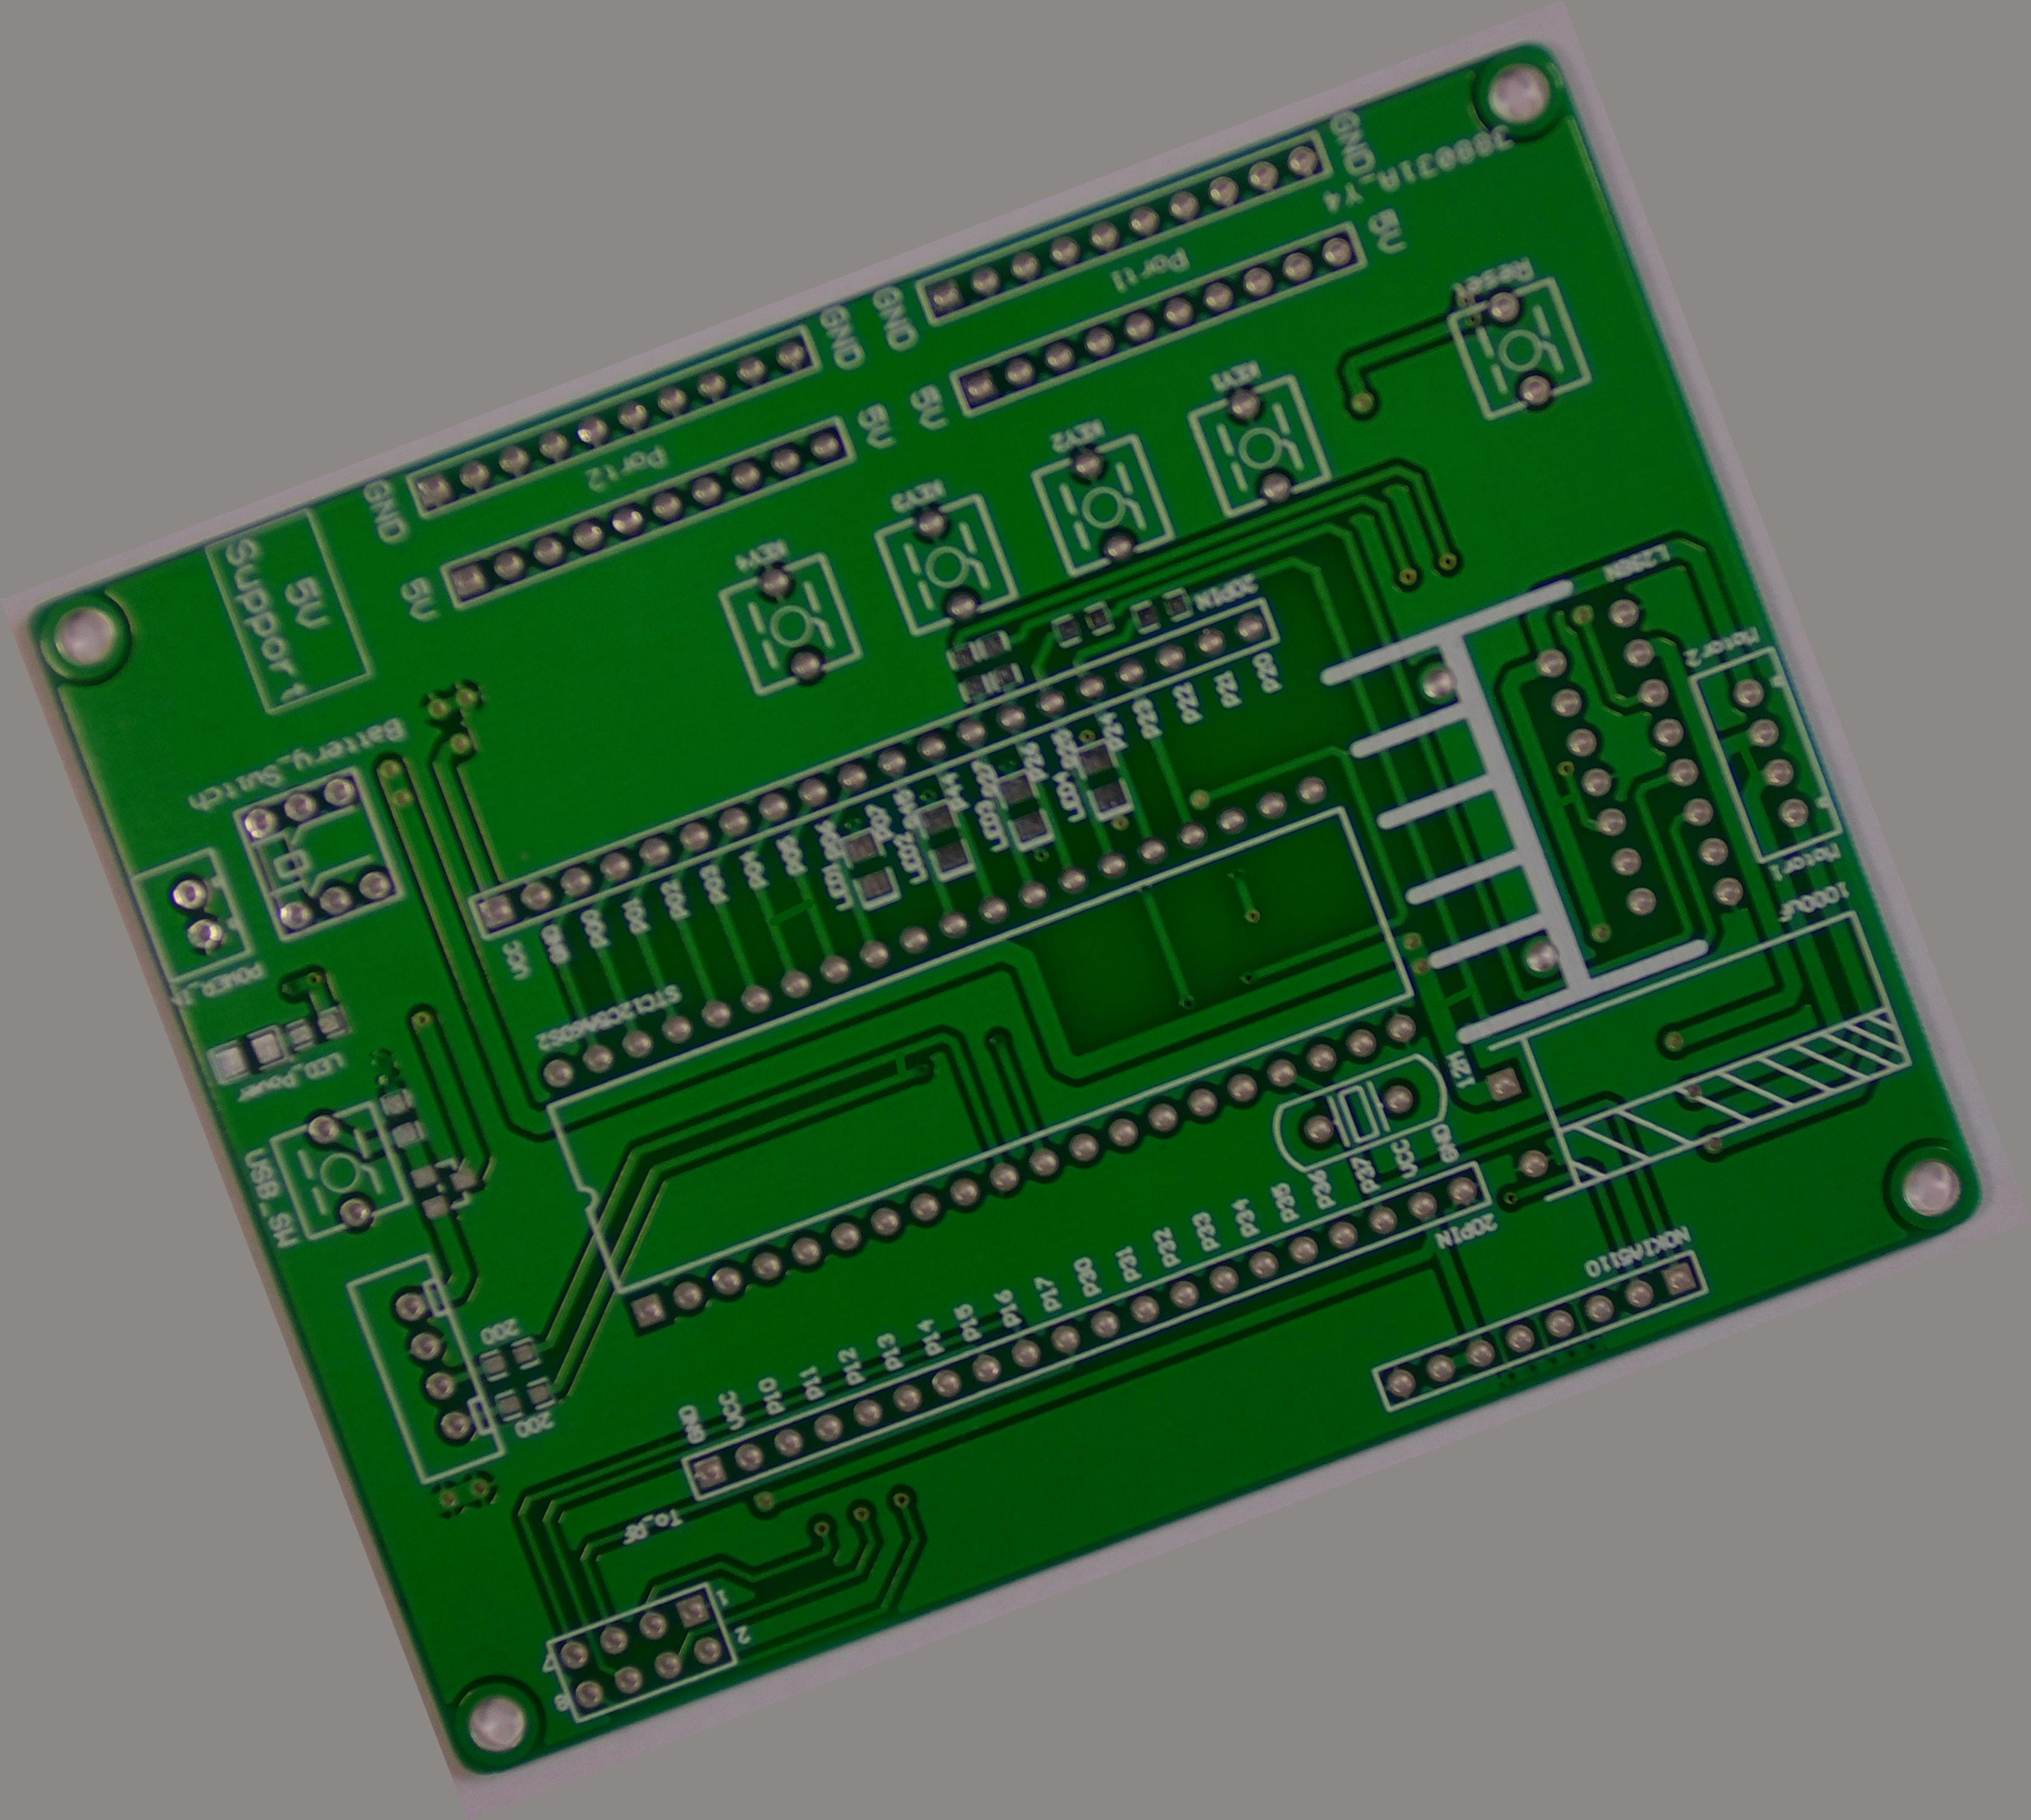short: (1717, 722, 1787, 799), (750, 884, 829, 945), (1420, 970, 1490, 1031), (1536, 773, 1599, 829), (873, 1038, 928, 1091)
